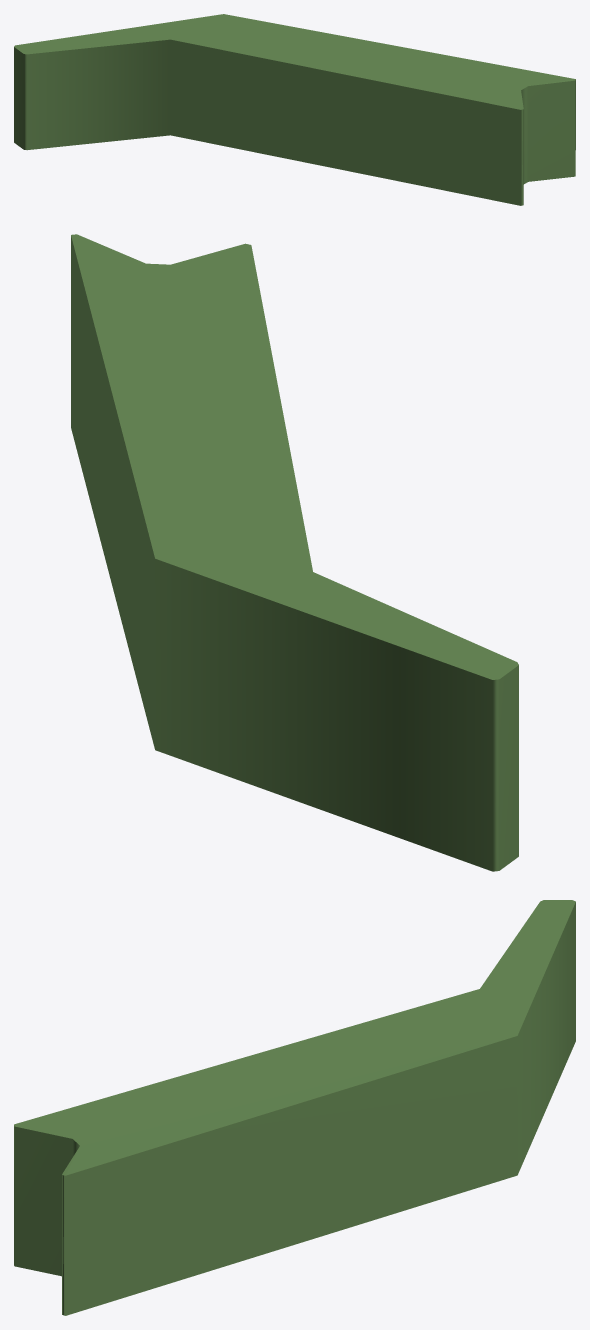
Rendered from FlipperBorder_Collision.fbx.
3 renders of one model, top to bottom at view 1: azimuth 30°, elevation 25°; view 2: azimuth 150°, elevation 25°; view 3: azimuth 270°, elevation 25°, orthographic. The views are drawn at different scales.
Visible parts, largest first — view 1: FlipperBorder_Collision; view 2: FlipperBorder_Collision; view 3: FlipperBorder_Collision.
Boxes of the visible parts, x1,y1,x2,y2 form: FlipperBorder_Collision: [14, 14, 575, 205]; FlipperBorder_Collision: [71, 234, 518, 871]; FlipperBorder_Collision: [14, 900, 575, 1315].
Bounding box in the file's own units: 0.4044 × 0.0958 × 0.3477.
